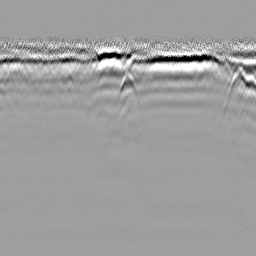cavity: (117, 70, 141, 109)
